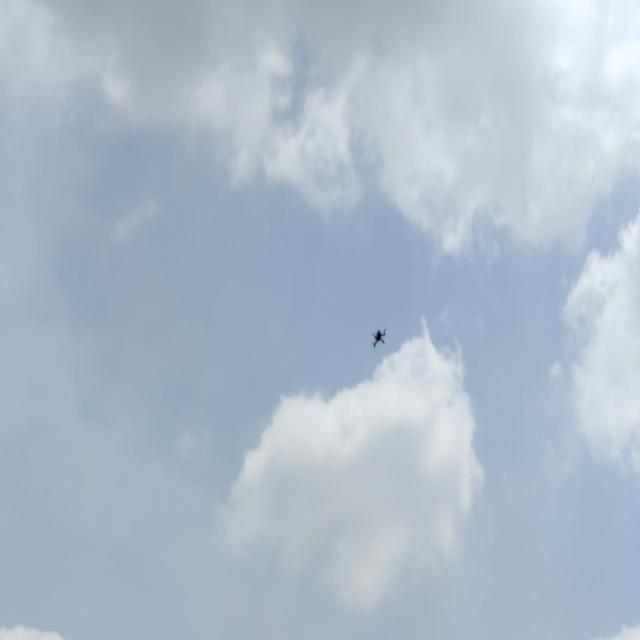drone: (368, 320, 389, 350)
